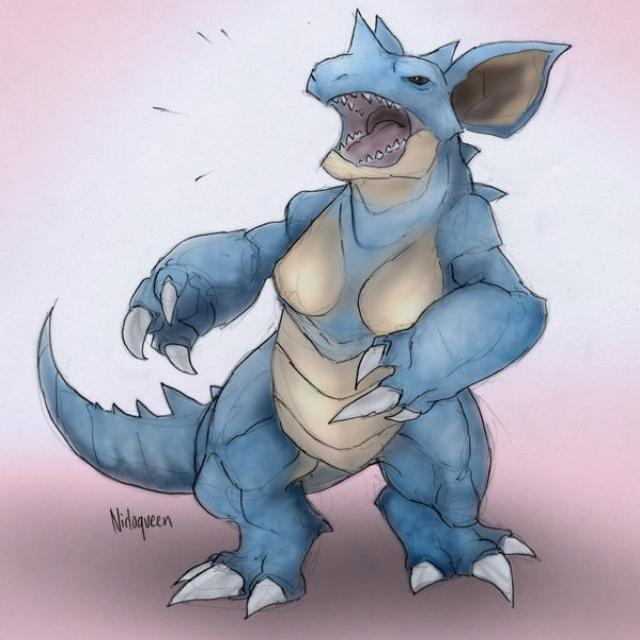Nidoqueen: (199, 19, 560, 601)
